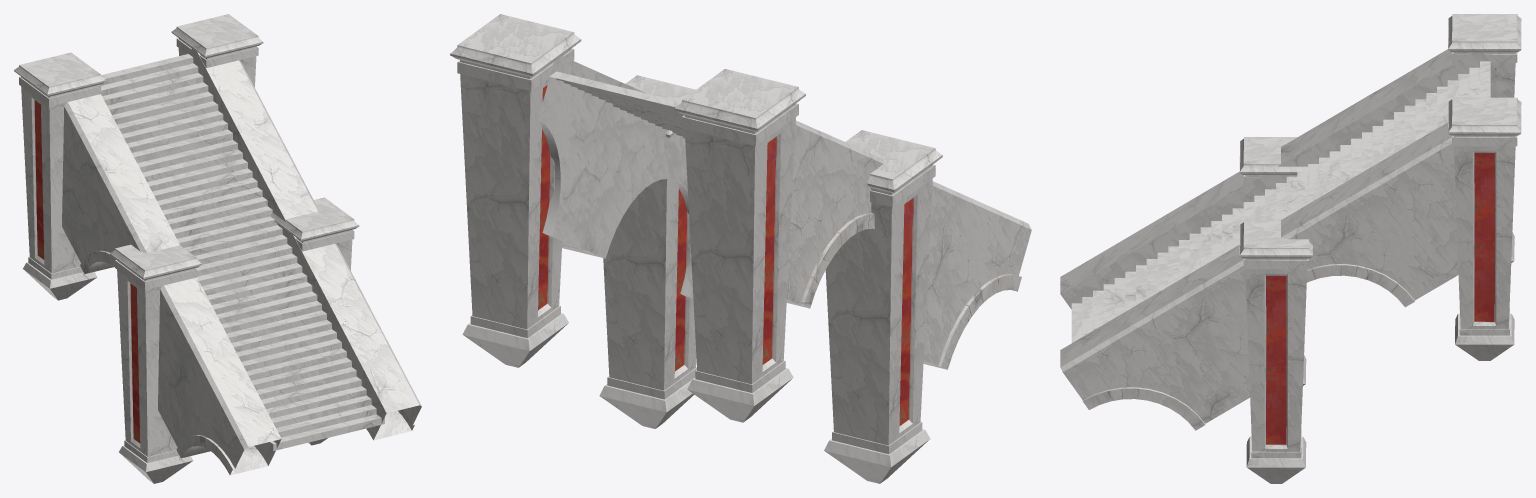
The model's file is BgMD_Ruins_StraightStairs.fbx.
3 views of the same model, side by side, from view 1: azimuth 30°, elevation 25°; view 2: azimuth 150°, elevation 25°; view 3: azimuth 270°, elevation 25° (orthographic). The views are drawn at different scales.
Visible parts, largest first — view 1: SM_Ruins_stairs, SM_Ruins_deco_L1, SM_Ruins_deco_L3, SM_Ruins_deco_L2, SM_Ruins_deco_L4; view 2: SM_Ruins_stairs, SM_Ruins_deco_L1, SM_Ruins_deco_L2, SM_Ruins_deco_L3, SM_Ruins_deco_L4; view 3: SM_Ruins_stairs, SM_Ruins_deco_L2, SM_Ruins_deco_L4, SM_Ruins_deco_L1, SM_Ruins_deco_L3.
Boxes of the visible parts, <box> form: SM_Ruins_stairs: <box>62,48,421,475</box>; SM_Ruins_deco_L1: <box>14,52,105,300</box>; SM_Ruins_deco_L3: <box>110,244,201,483</box>; SM_Ruins_deco_L2: <box>171,14,263,87</box>; SM_Ruins_deco_L4: <box>270,197,359,445</box>; SM_Ruins_stairs: <box>535,55,1031,369</box>; SM_Ruins_deco_L1: <box>674,69,805,422</box>; SM_Ruins_deco_L2: <box>450,14,581,367</box>; SM_Ruins_deco_L3: <box>824,130,942,483</box>; SM_Ruins_deco_L4: <box>599,75,696,428</box>; SM_Ruins_stairs: <box>1060,49,1508,430</box>; SM_Ruins_deco_L2: <box>1448,97,1521,360</box>; SM_Ruins_deco_L4: <box>1239,220,1312,483</box>; SM_Ruins_deco_L1: <box>1448,14,1521,262</box>; SM_Ruins_deco_L3: <box>1239,137,1307,385</box>.
Bounding box in the file's own units: 756 × 1140 × 1286.
